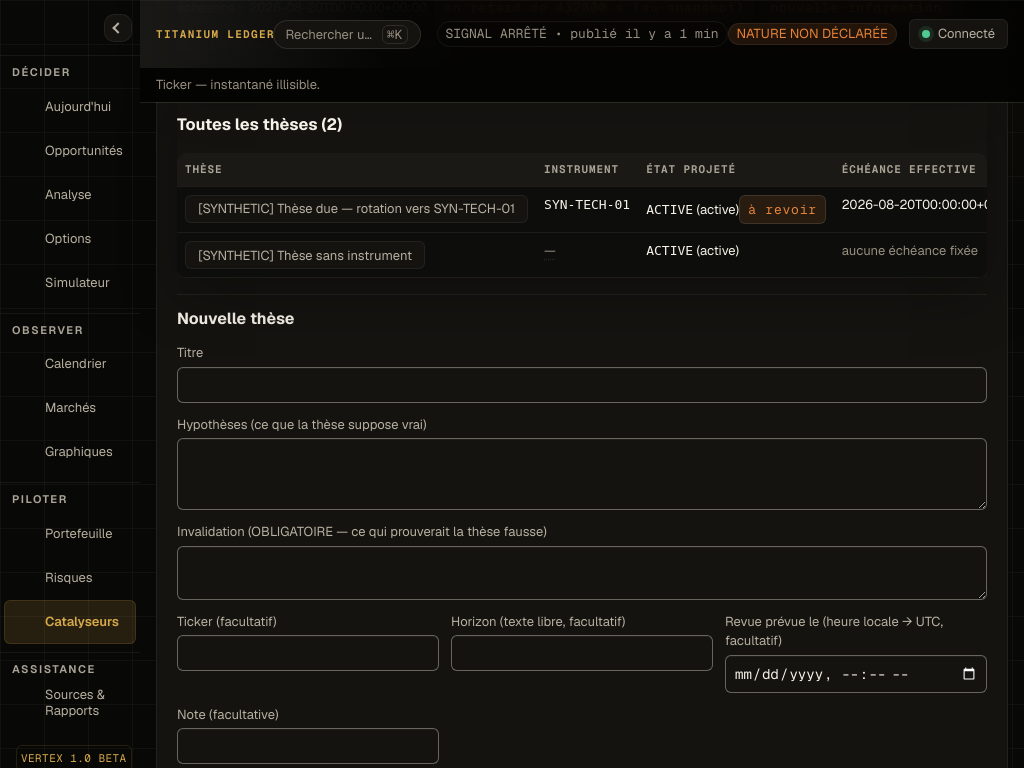
Formulaire de thèse › création : POST avec idempotency_key générée côté client
(page scrolled)
Type "Ma thèse" into the field labelled "Titre" at (582, 385), box x1=177 y1=367 x2=987 y2=403
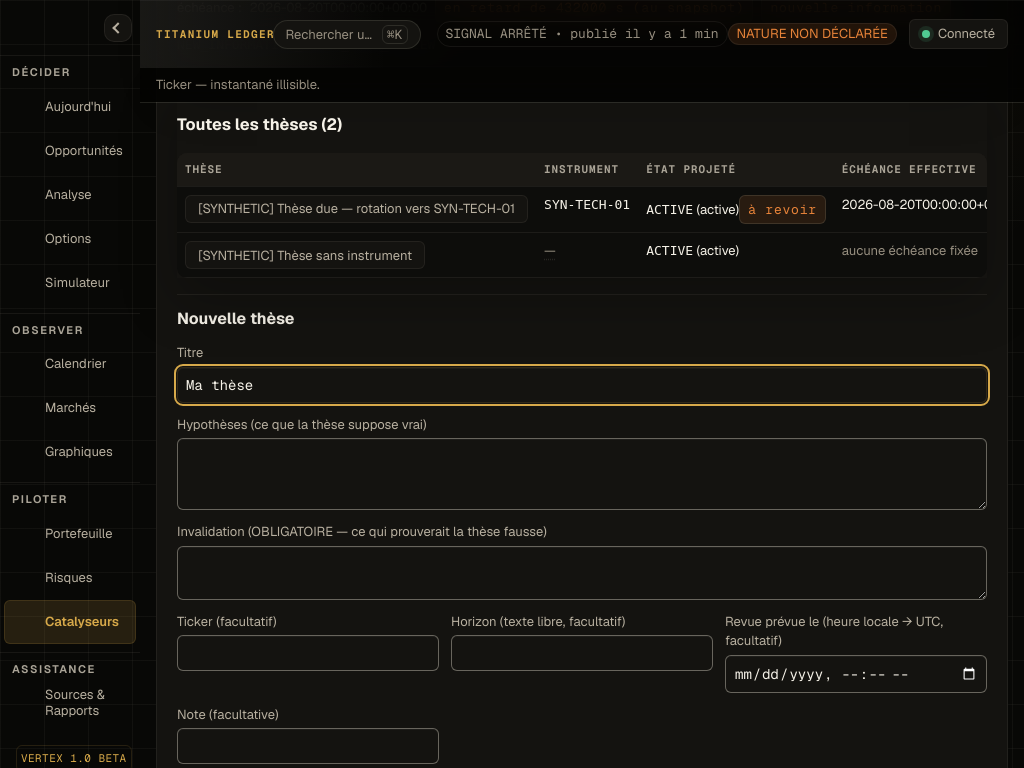
Type "Parce que." into the text box labelled "Hypothèses (ce que la thèse suppose vrai)" at (582, 474), box x1=177 y1=438 x2=987 y2=510
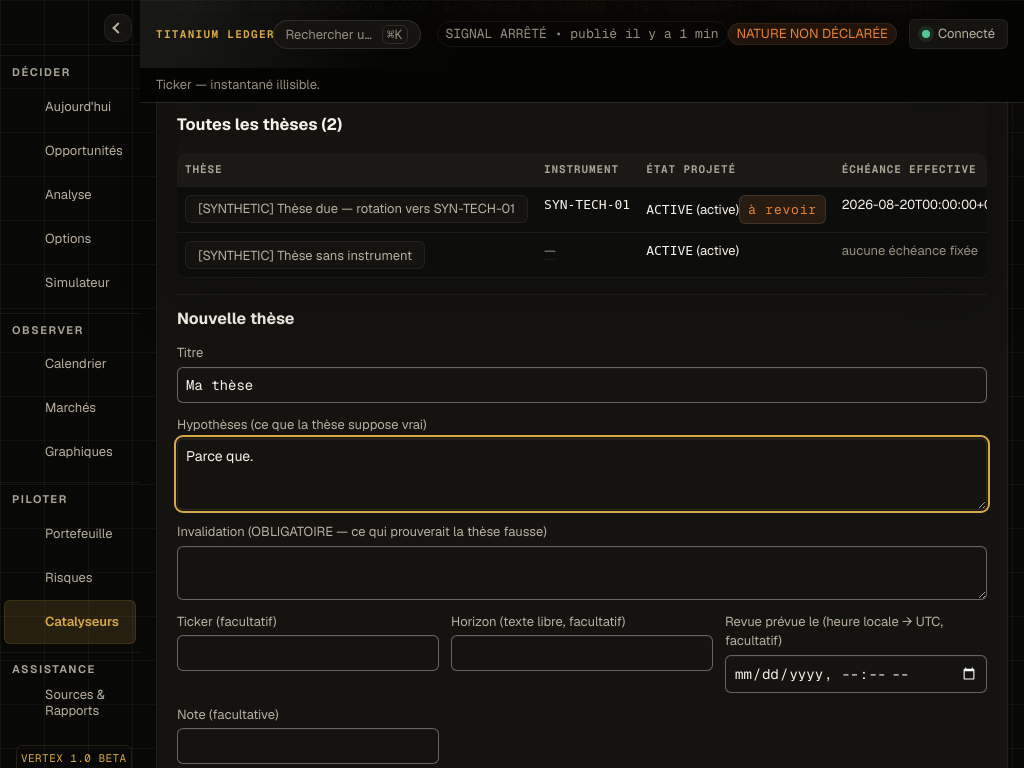
Type "Si X arrive." into the text box labelled "Invalidation (OBLIGATOIRE" at (582, 573), box x1=177 y1=546 x2=987 y2=600
(page scrolled)
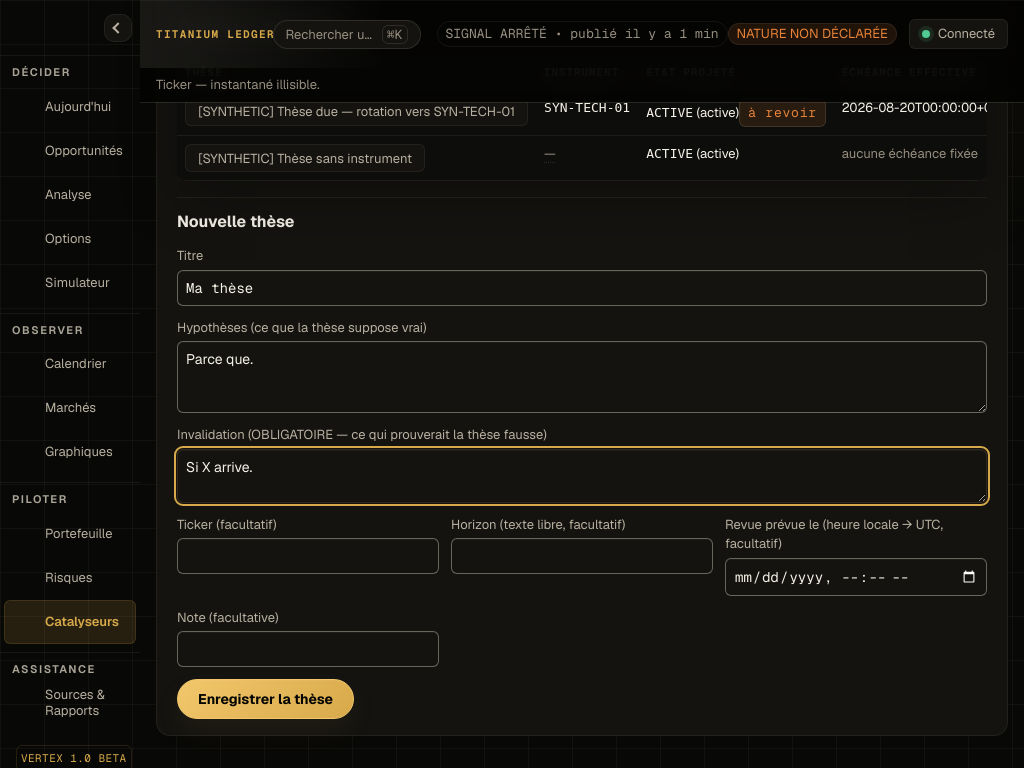
Click the button "Enregistrer la thèse" at (266, 700), box x1=177 y1=680 x2=354 y2=720
(page scrolled)
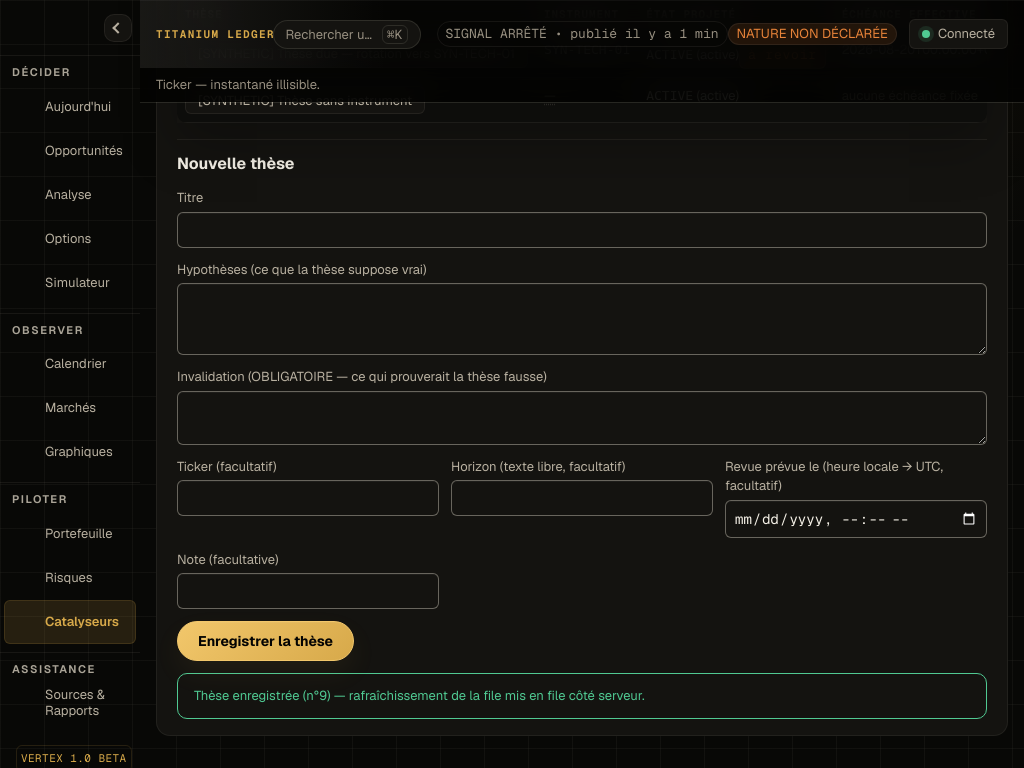
Now the message with test id "thesis-form-created" is shown, box x1=177 y1=674 x2=987 y2=719
